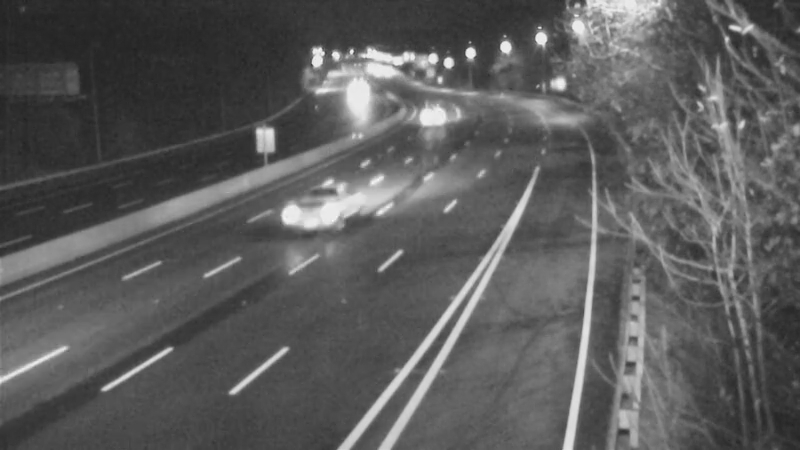vehicle: (288, 169, 368, 249), (413, 86, 463, 136), (333, 76, 383, 126)
